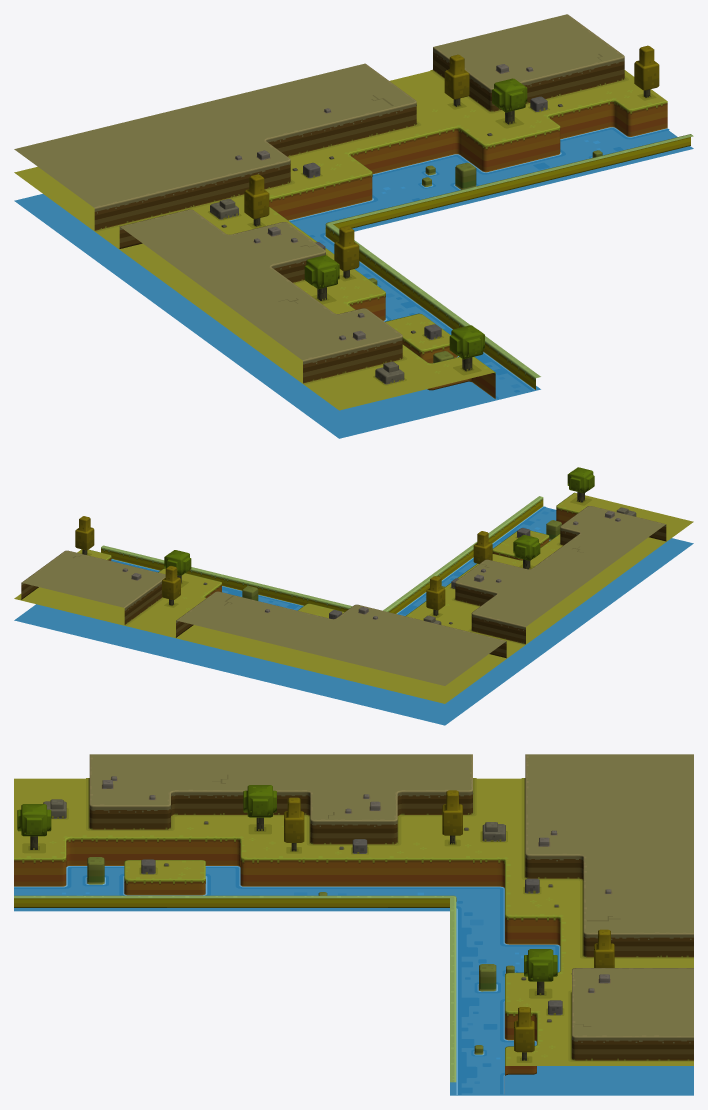
Rendered from C_water2_out_RD.fbx.
3 views of the same model, one above another, from view 1: azimuth 30°, elevation 25°; view 2: azimuth 150°, elevation 25°; view 3: azimuth 270°, elevation 25° (orthographic). The views are drawn at different scales.
Visible parts, largest first — view 1: C_water2_out_RD; view 2: C_water2_out_RD; view 3: C_water2_out_RD.
Part boxes in pixels (x1,y1,x2,y2): C_water2_out_RD: [14, 14, 693, 438]; C_water2_out_RD: [14, 467, 693, 725]; C_water2_out_RD: [14, 754, 693, 1095].
Size of the model in its own units: 117 by 15.34 by 117.
